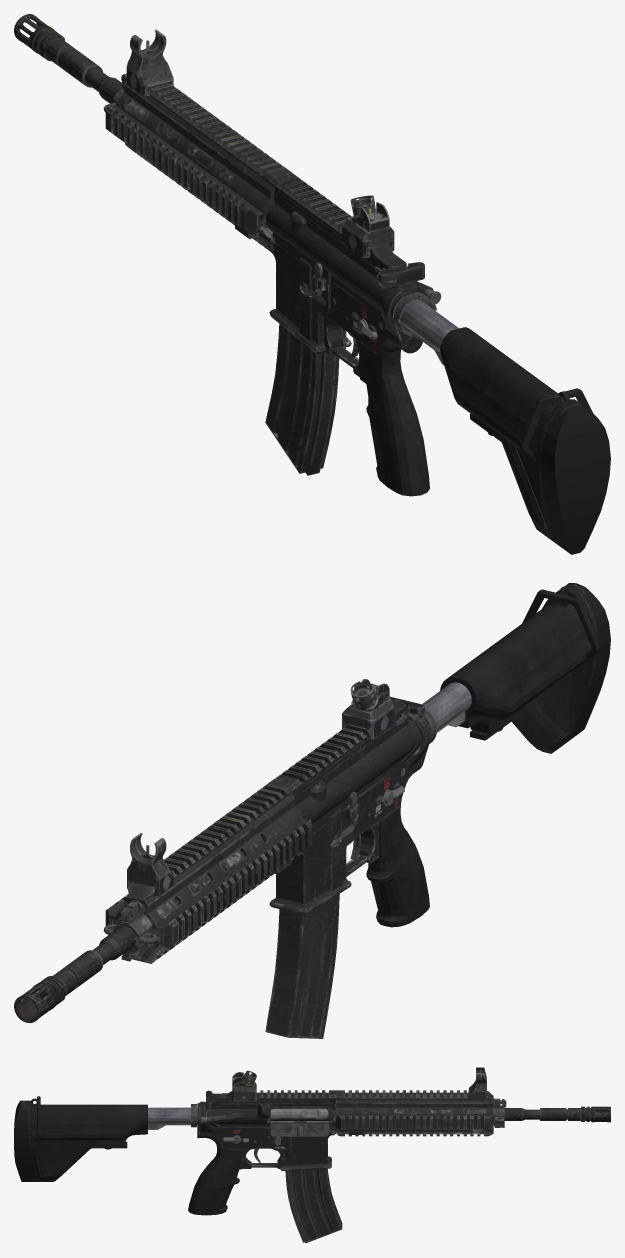
3 renders of one model, top to bottom at view 1: azimuth 30°, elevation 25°; view 2: azimuth 150°, elevation 25°; view 3: azimuth 270°, elevation 25°, orthographic. The views are drawn at different scales.
Visible parts, largest first — view 1: M416_Body, Mag, Irons; view 2: M416_Body, Mag, Irons; view 3: M416_Body, Mag, Irons.
Boxes of the visible parts, x1,y1,x2,y2 form: M416_Body: (14, 14, 610, 554); Mag: (265, 324, 331, 475); Irons: (126, 29, 394, 257); M416_Body: (14, 583, 610, 1037); Mag: (289, 894, 339, 1038); Irons: (127, 679, 394, 896); M416_Body: (14, 1089, 610, 1228); Mag: (285, 1169, 342, 1243); Irons: (232, 1067, 486, 1101).
Size of the model in its own units: 0.0702 by 0.2715 by 0.86.
1 material, 1 textured.
